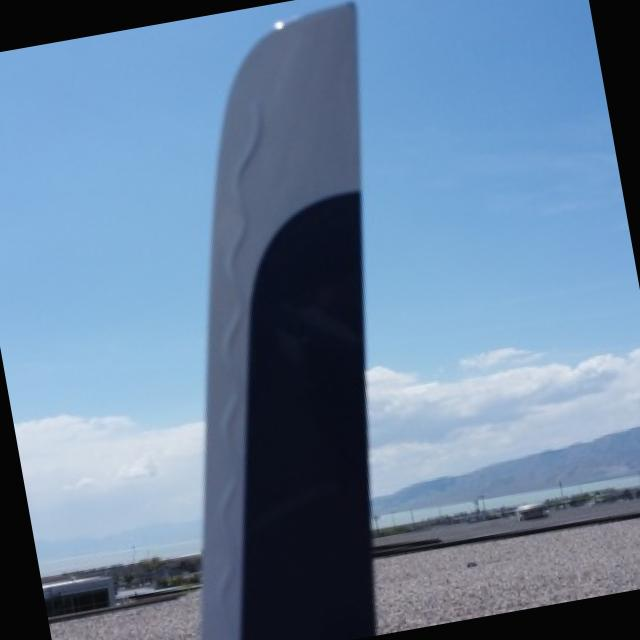healthy: (198, 1, 373, 640)
